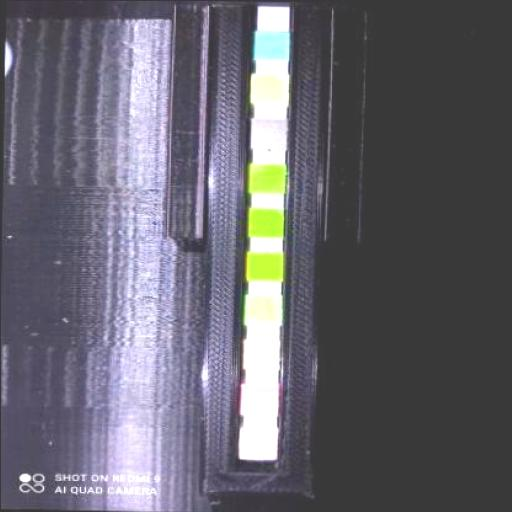Bilirubin: (250, 75, 288, 103)
Blood: (249, 208, 283, 236)
Glucose: (255, 31, 289, 58)
Ketone: (251, 118, 286, 148)
Leukocytes: (240, 428, 276, 458)
Nitrite: (240, 384, 278, 412)
Protein: (245, 296, 281, 322)
SpGravity: (250, 164, 284, 192)
Urobilinogen: (243, 340, 279, 370)
pH: (248, 254, 284, 280)
strip: (241, 7, 289, 460)
